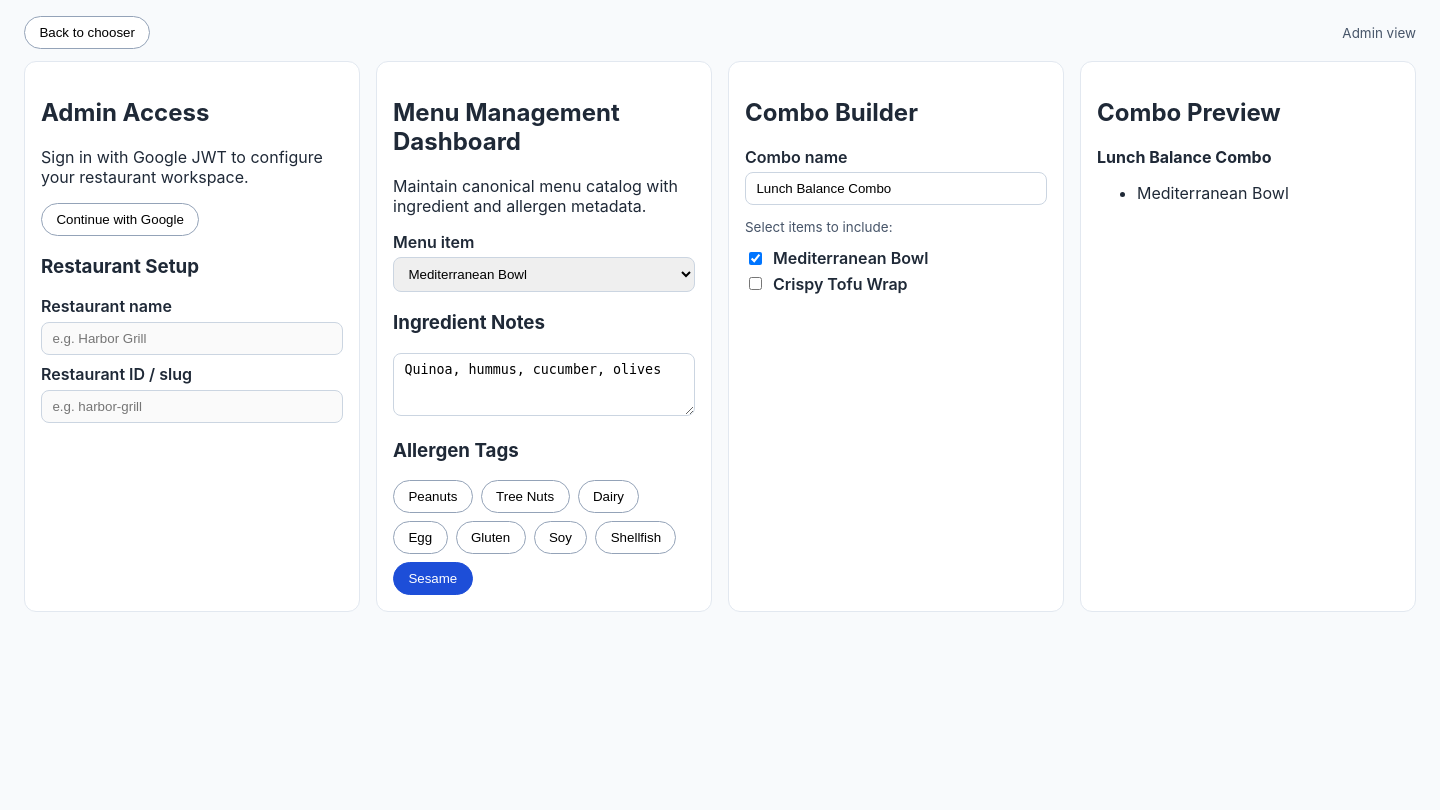
App › runs the admin journey: login + setup + combo update
This screenshot has width=1440, height=810.
Click the button "Continue with Google".
click(120, 219)  # box [41,203,199,236]
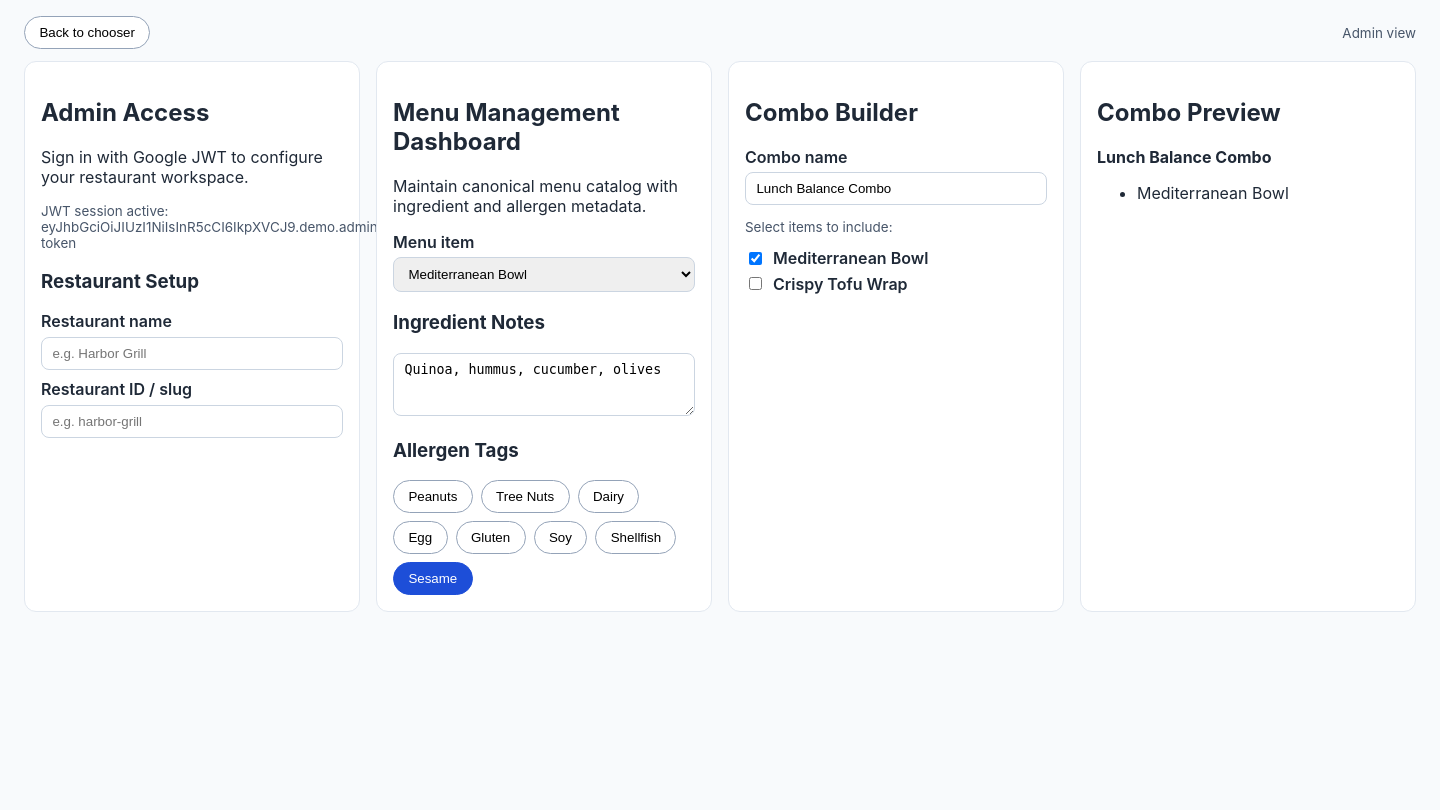
Expected: the text "JWT session active" is shown, [41,203,168,219]
Type "Hackathon Bistro" into the field labelled "Restaurant name".
click(192, 353); type("Hackathon Bistro")  # box [41,337,343,370]
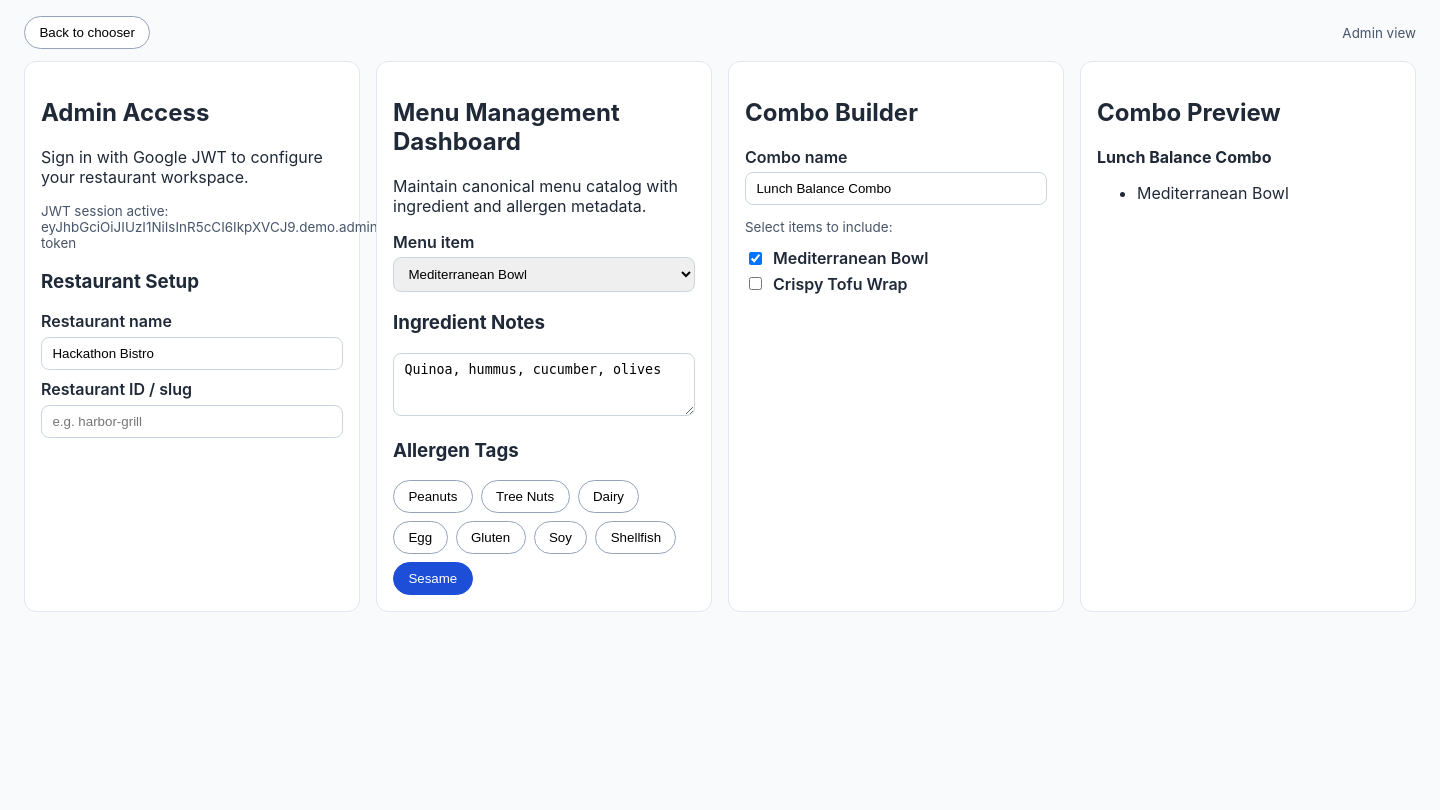
Type "hackathon-bistro" into the field labelled "Restaurant ID / slug".
click(192, 422); type("hackathon-bistro")  # box [41,405,343,438]
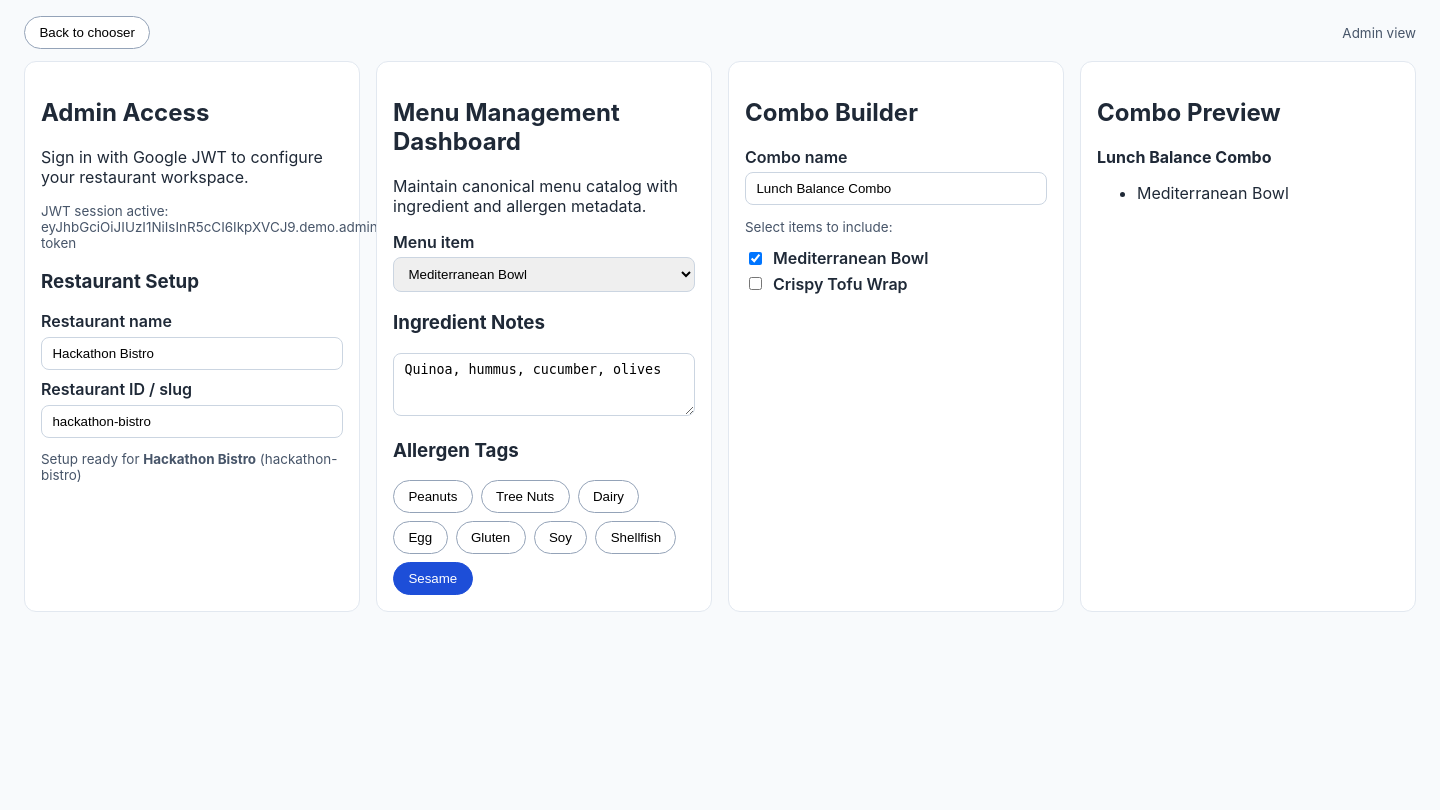
Expected: the text "Setup ready for Hackathon Bistro (hackathon-bistro)" is shown, [41,452,343,484]
Replace the text in the field labelled "Combo name" with "Hackathon Special Combo" at (896, 189), box [745,172,1047,205]
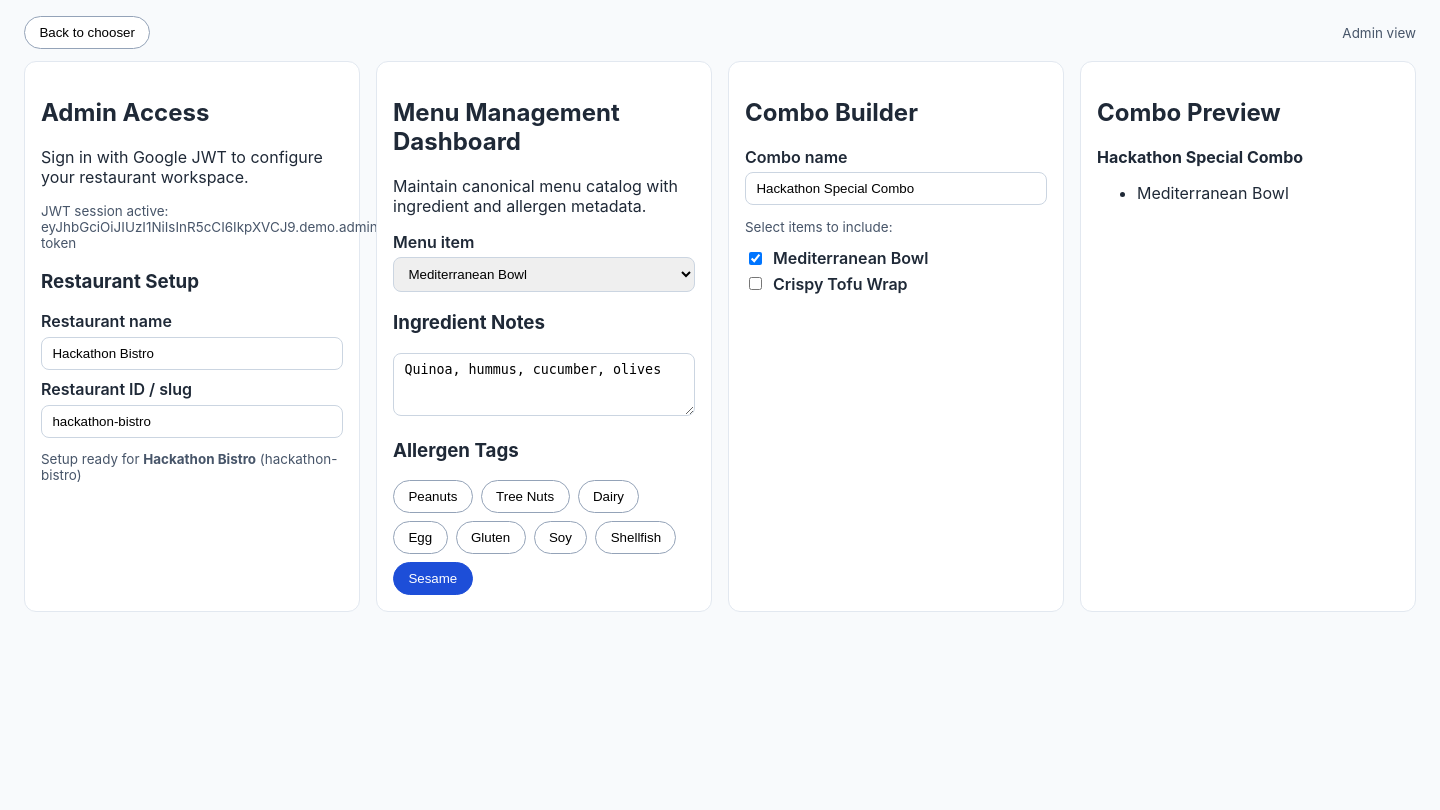
Expected: the text "Hackathon Special Combo" is shown, [1097,147,1303,167]
